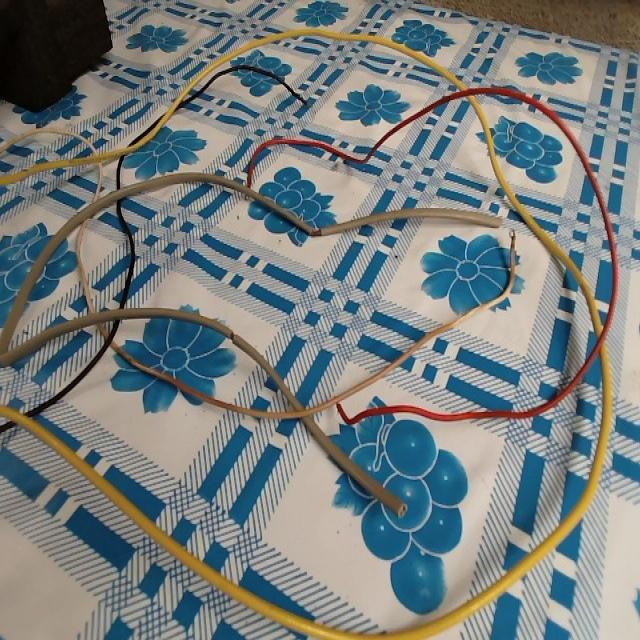-: (223, 321, 240, 351), (392, 500, 410, 523), (305, 221, 323, 240), (505, 227, 518, 241)
